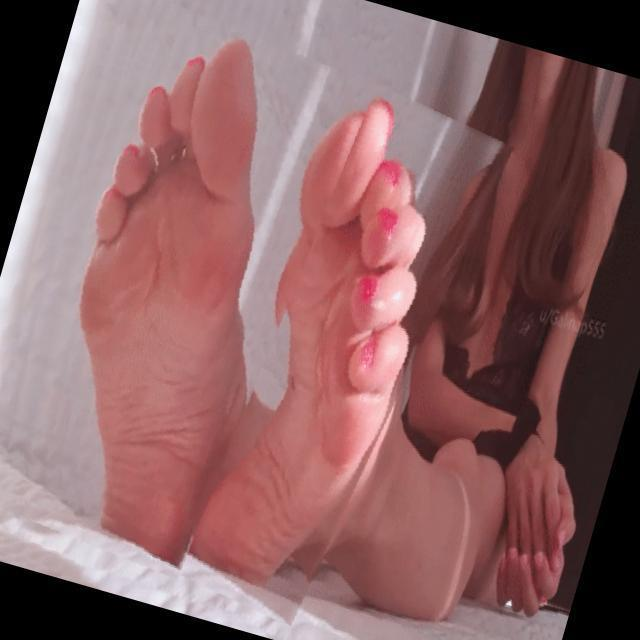Barefoots: (199, 108, 438, 587), (70, 27, 269, 576)
